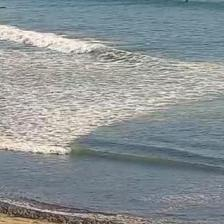surfer: (181, 0, 190, 4), (0, 6, 7, 9), (168, 0, 176, 2)
